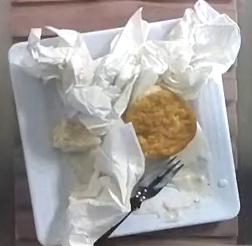biscuit: (122, 85, 194, 156)
